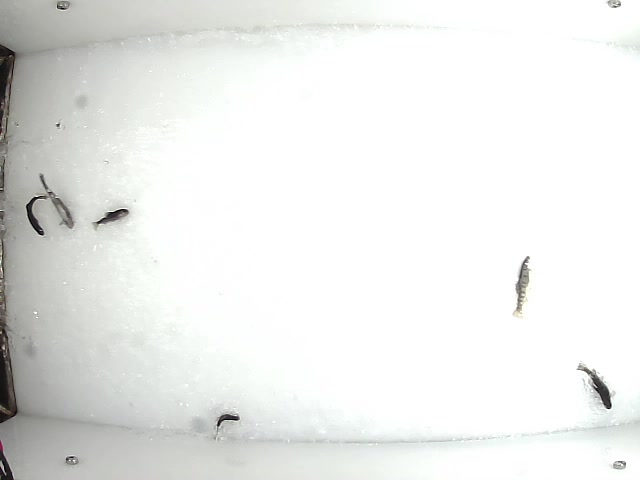fish: (36, 171, 75, 226), (574, 360, 613, 411), (510, 254, 535, 318), (25, 192, 49, 238), (91, 207, 131, 232), (211, 413, 241, 439)
